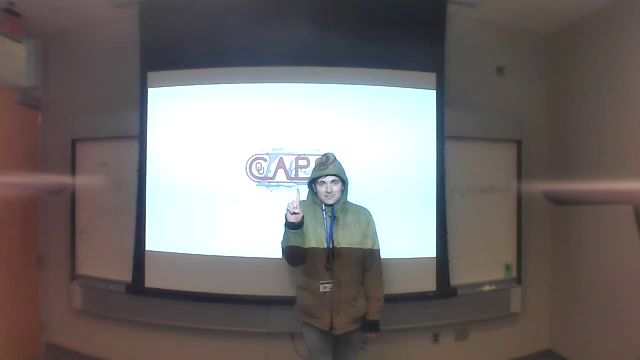up: (278, 182, 307, 223)
